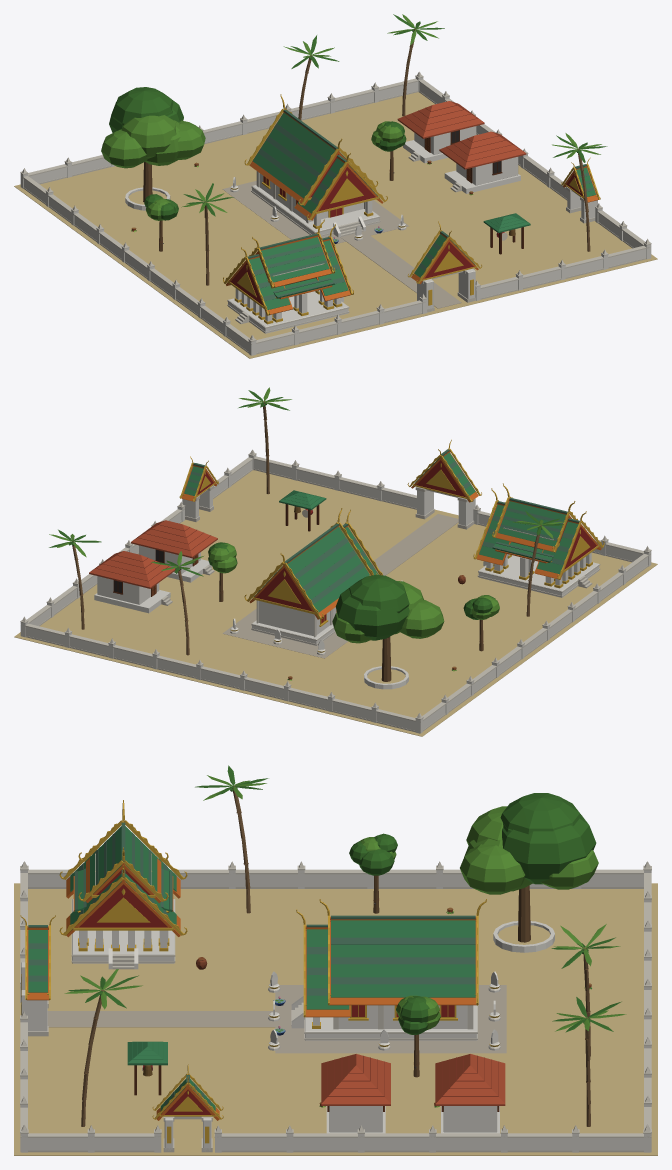
The model's file is temple_1.glb.
3 views of the same model, one above another, from view 1: azimuth 30°, elevation 25°; view 2: azimuth 150°, elevation 25°; view 3: azimuth 270°, elevation 25° (orthographic). The views are drawn at different scales.
Parts seen in each view (by area): view 1: body; view 2: body; view 3: body.
Boxes of the visible parts, box(x1,y1,x2,y2) form: body: box(14, 14, 657, 358); body: box(14, 387, 657, 736); body: box(14, 765, 657, 1155).
Bounding box in the file's own units: 47.9 × 12.15 × 47.9.
